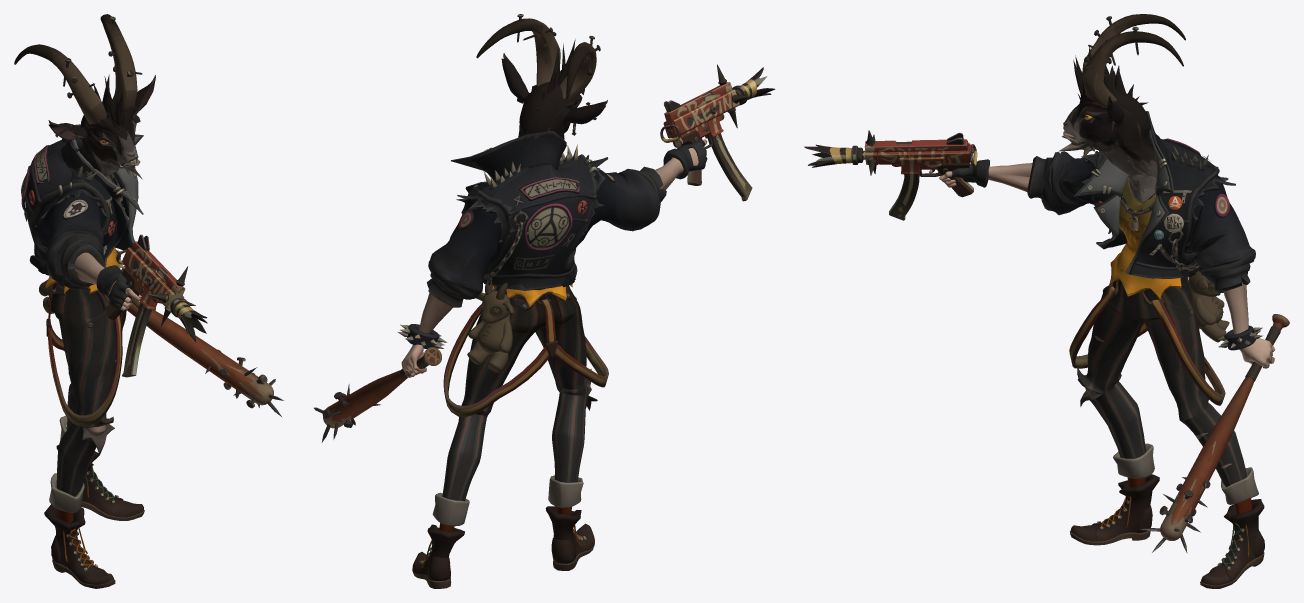
3 views of the same model, side by side, from view 1: azimuth 30°, elevation 25°; view 2: azimuth 150°, elevation 25°; view 3: azimuth 270°, elevation 25° (orthographic). The views are drawn at different scales.
Visible parts, largest first — view 1: models\heroes_wip\punkgoat\punkgoat.vmdl_c.punkgoat_model, models\heroes_wip\punkgoat\punkgoat.vmdl_c.weapon; view 2: models\heroes_wip\punkgoat\punkgoat.vmdl_c.punkgoat_model, models\heroes_wip\punkgoat\punkgoat.vmdl_c.weapon; view 3: models\heroes_wip\punkgoat\punkgoat.vmdl_c.punkgoat_model, models\heroes_wip\punkgoat\punkgoat.vmdl_c.weapon.
Part boxes in pixels (x1,y1,x2,y2): models\heroes_wip\punkgoat\punkgoat.vmdl_c.punkgoat_model: [14, 14, 283, 588]; models\heroes_wip\punkgoat\punkgoat.vmdl_c.weapon: [106, 234, 207, 377]; models\heroes_wip\punkgoat\punkgoat.vmdl_c.punkgoat_model: [314, 14, 707, 588]; models\heroes_wip\punkgoat\punkgoat.vmdl_c.weapon: [660, 64, 775, 201]; models\heroes_wip\punkgoat\punkgoat.vmdl_c.punkgoat_model: [929, 14, 1289, 588]; models\heroes_wip\punkgoat\punkgoat.vmdl_c.weapon: [804, 130, 977, 220].
Size of the model in its own units: 1.7 by 2.98 by 2.47.
Materials: 7 (6 with a texture image).
